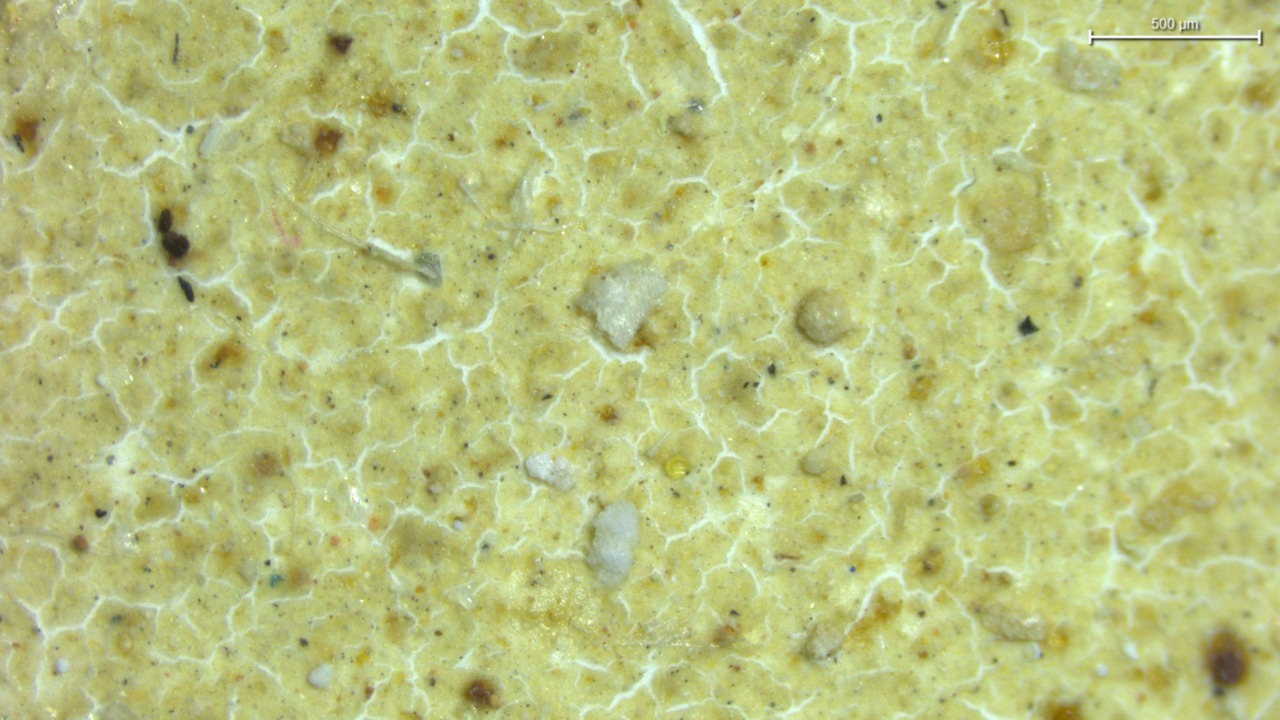microplastic_fragment: (575, 258, 671, 350), (589, 501, 641, 591), (796, 288, 852, 344), (522, 452, 578, 493)
